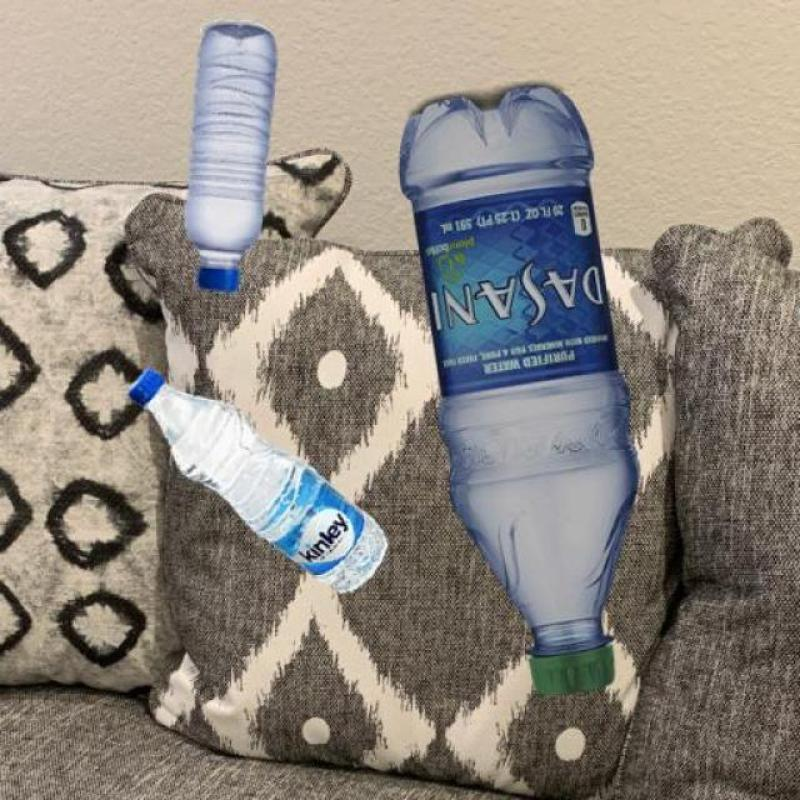botella: (394, 83, 638, 691), (128, 366, 390, 596), (186, 23, 276, 292)
